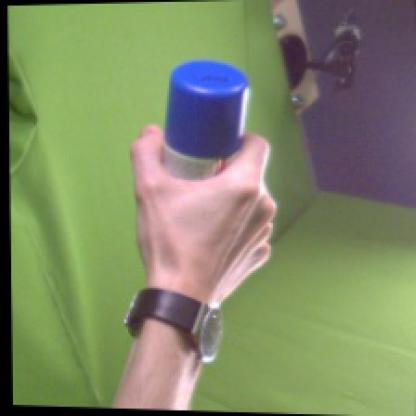Hand: (130, 123, 276, 302)
